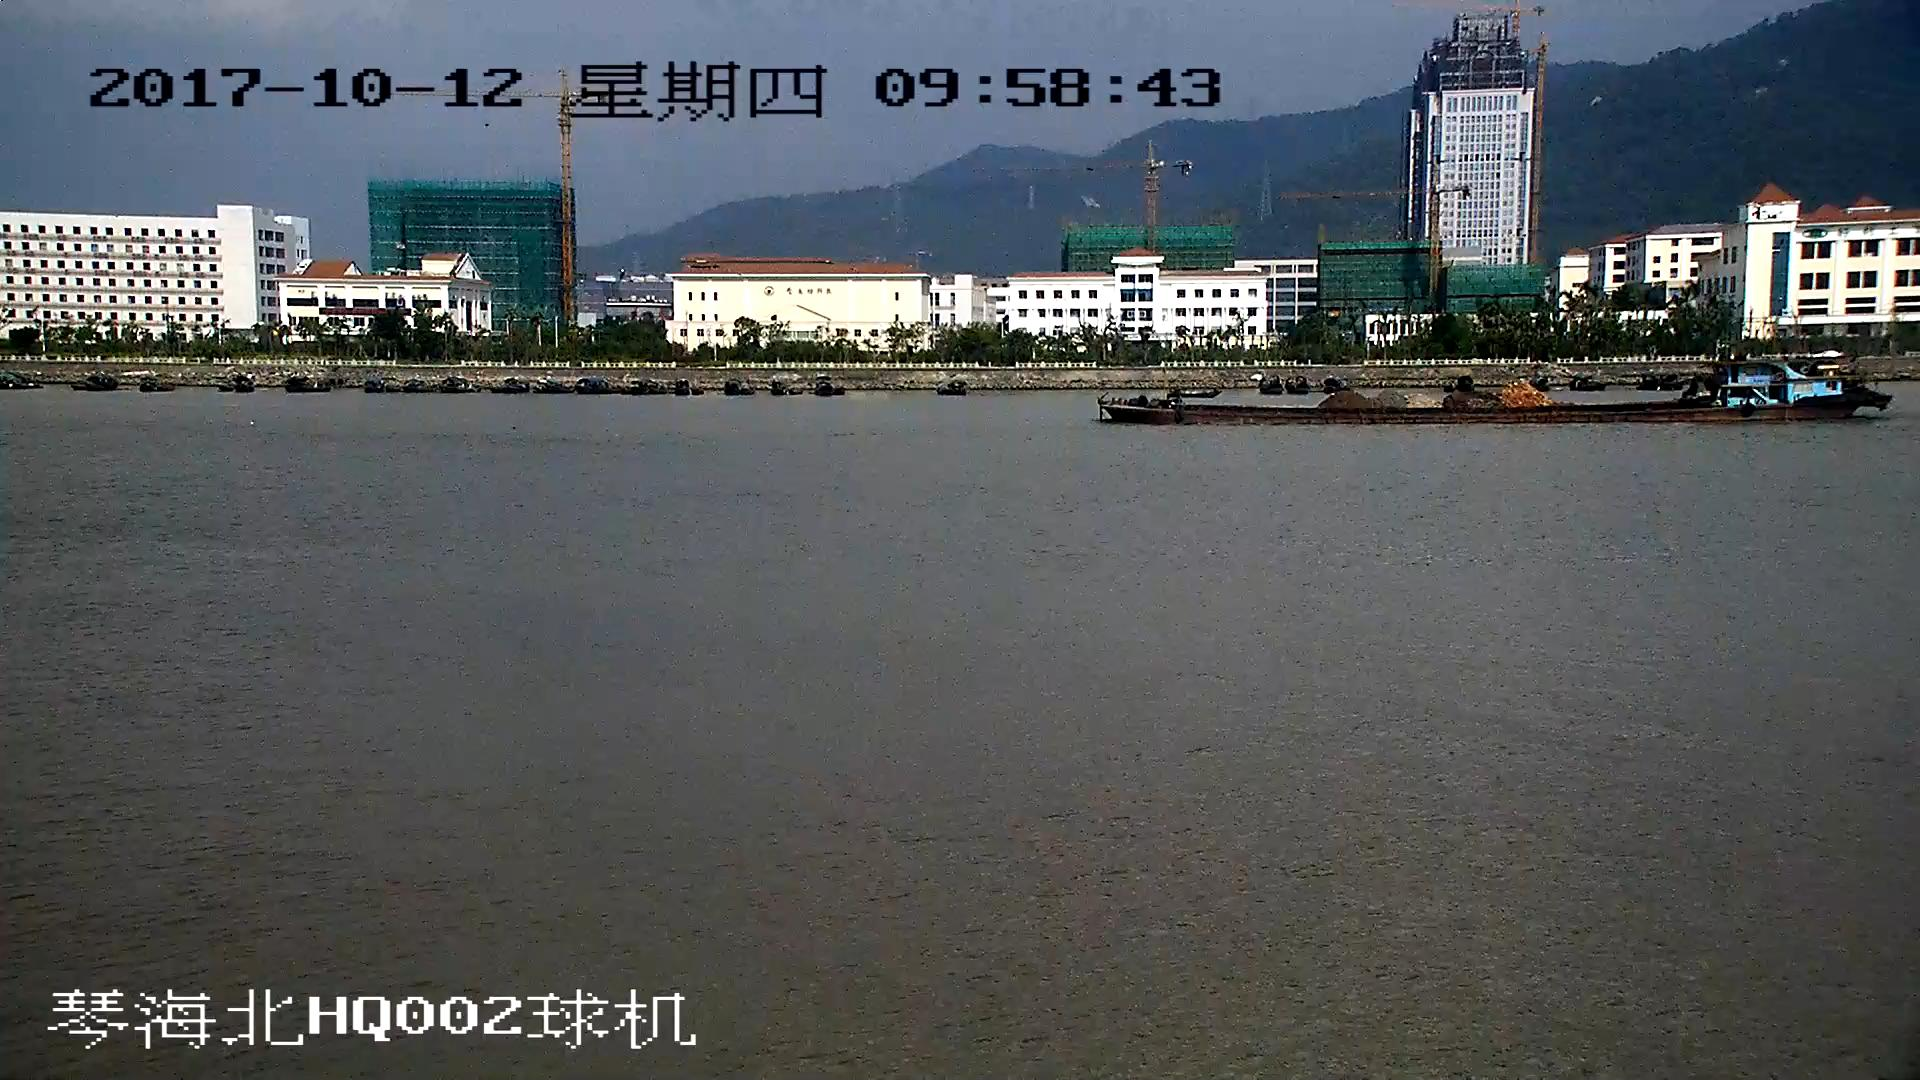ore carrier: (1103, 354, 1883, 424)
